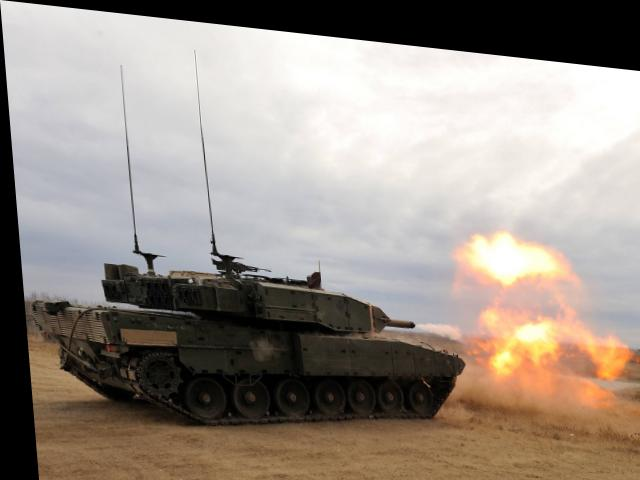tank: (23, 230, 468, 443)
